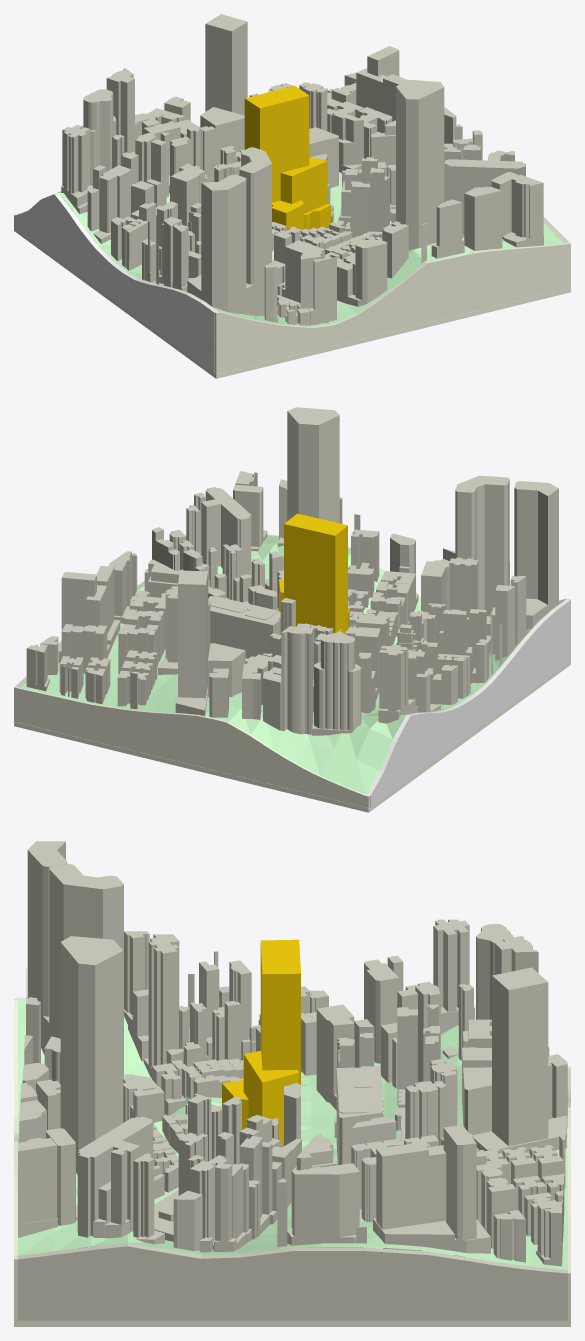
3 views of the same model, one above another, from view 1: azimuth 30°, elevation 25°; view 2: azimuth 150°, elevation 25°; view 3: azimuth 270°, elevation 25° (orthographic). The views are drawn at different scales.
Parts seen in each view (by area): view 1: Model, Group519, Group304, Group395, Group43, Group215, Group679, Group357, Group154, Group224, Group25, Group548 (+43 smaller); view 2: Model, Group679, Group395, Group519, Group215, Group304, Group43, Group637, Group357, Group172, Group82, Group173 (+44 smaller); view 3: Model, Group519, Group679, Group43, Group215, Group395, Group45, Group357, Group196, Group304, Group249, Group113 (+64 smaller).
Part boxes in pixels (x1,y1,x2,y2): Model: (14, 193, 570, 378); Group519: (396, 79, 444, 249); Group304: (201, 174, 246, 314); Group395: (244, 85, 309, 202); Group43: (205, 14, 247, 115); Group215: (239, 147, 271, 315); Group679: (25, 165, 563, 326); Group357: (444, 154, 525, 234); Group154: (464, 186, 502, 250); Group224: (280, 157, 327, 213); Group25: (285, 240, 324, 308); Group548: (62, 125, 90, 203); Model: (14, 534, 570, 812); Group679: (20, 535, 564, 794); Group395: (284, 513, 347, 633); Group519: (287, 407, 339, 523); Group215: (455, 475, 509, 616); Group304: (514, 481, 558, 612); Group43: (178, 570, 208, 698); Group637: (281, 623, 313, 734); Group357: (201, 487, 251, 575); Group172: (314, 662, 361, 730); Group82: (208, 596, 280, 658); Group173: (320, 632, 354, 729); Model: (14, 997, 570, 1326); Group519: (60, 936, 123, 1174); Group679: (17, 1000, 567, 1269); Group43: (492, 967, 548, 1146); Group215: (49, 864, 123, 1076); Group395: (260, 939, 300, 1084); Group45: (292, 1163, 359, 1247); Group357: (77, 1116, 153, 1248); Group196: (376, 1142, 428, 1229); Group304: (27, 841, 67, 1050); Group249: (148, 936, 178, 1067); Group113: (443, 1125, 476, 1252).
Bounding box in the file's own units: 32.6 × 18.69 × 32.11.
